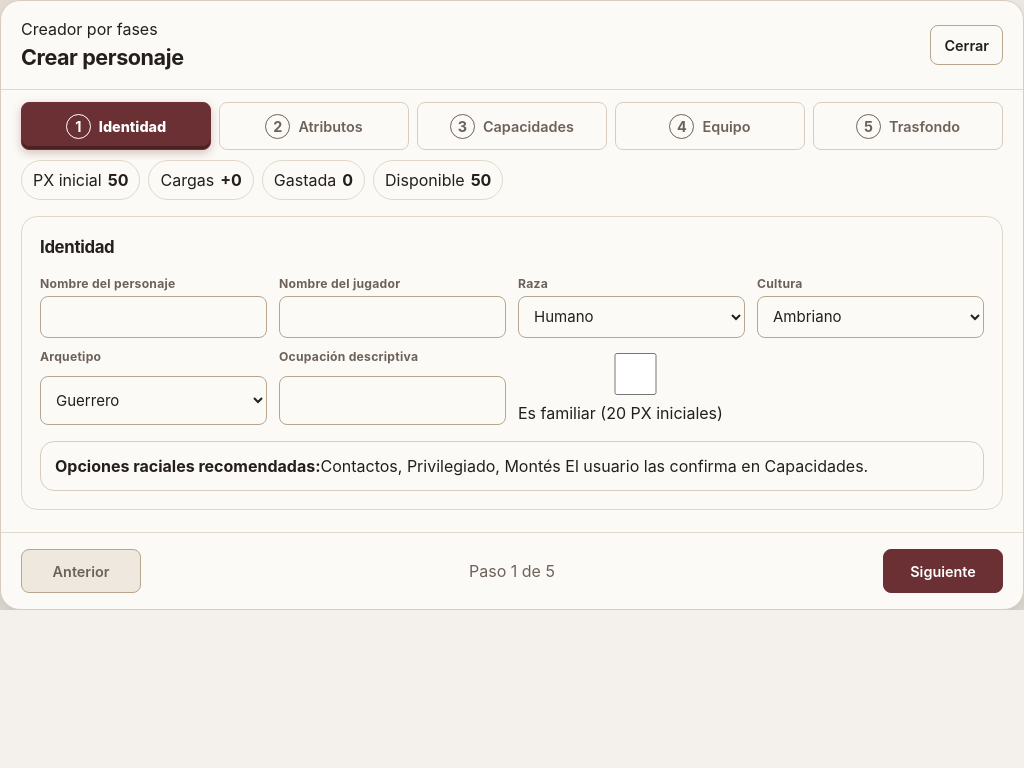
Test: ActorCreationWizard › impide saltar fases si la identidad actual no es válida
The width and height of the screenshot is (1024, 768).
Click the button "5 Trasfondo" at (908, 126), box [813,102,1003,150]
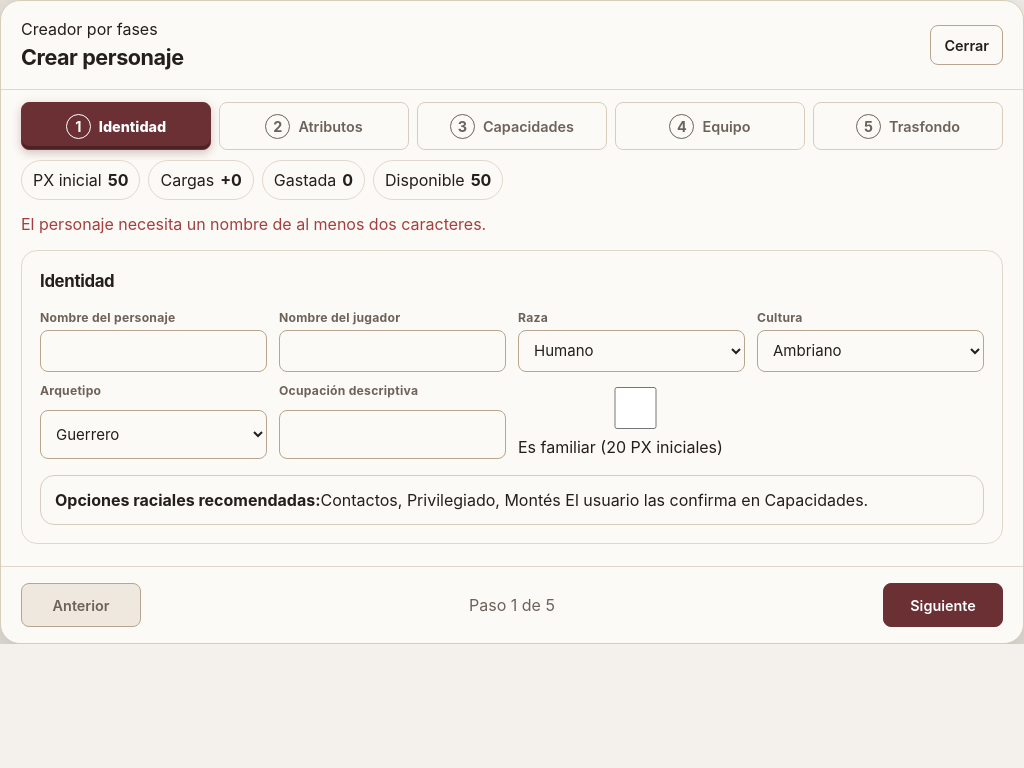
Expected: the heading "Identidad" is shown, [40,271,114,291]
Expected: the text "El personaje necesita un nombre de al menos dos caracteres." is shown, [21,214,486,234]
